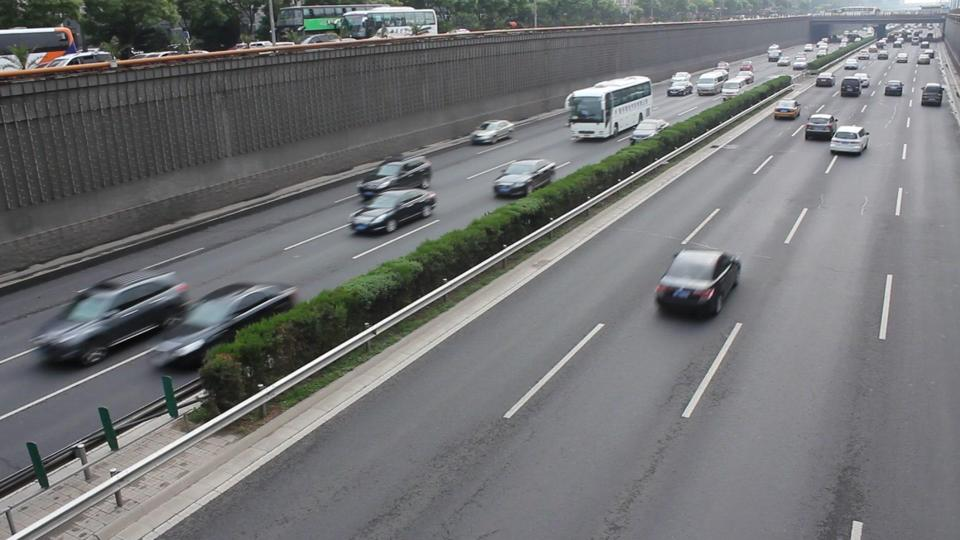bus: (566, 76, 653, 141), (274, 4, 405, 42), (341, 7, 443, 39), (0, 27, 78, 68)
car: (27, 270, 193, 367), (144, 280, 302, 371), (654, 242, 742, 320), (348, 188, 439, 235), (357, 154, 432, 201), (492, 159, 560, 198), (39, 50, 118, 69), (829, 125, 872, 155), (469, 120, 516, 145), (804, 113, 839, 141), (694, 69, 730, 96), (631, 119, 670, 143), (719, 76, 754, 96), (773, 99, 802, 120), (921, 83, 945, 106), (839, 77, 865, 98), (667, 83, 693, 97), (884, 80, 905, 96), (849, 73, 871, 87), (815, 74, 836, 87), (844, 60, 861, 70), (792, 61, 808, 70), (895, 53, 908, 63)
